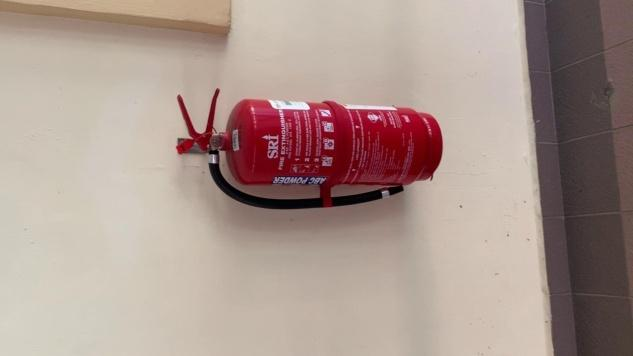APAR: (174, 87, 443, 210)
